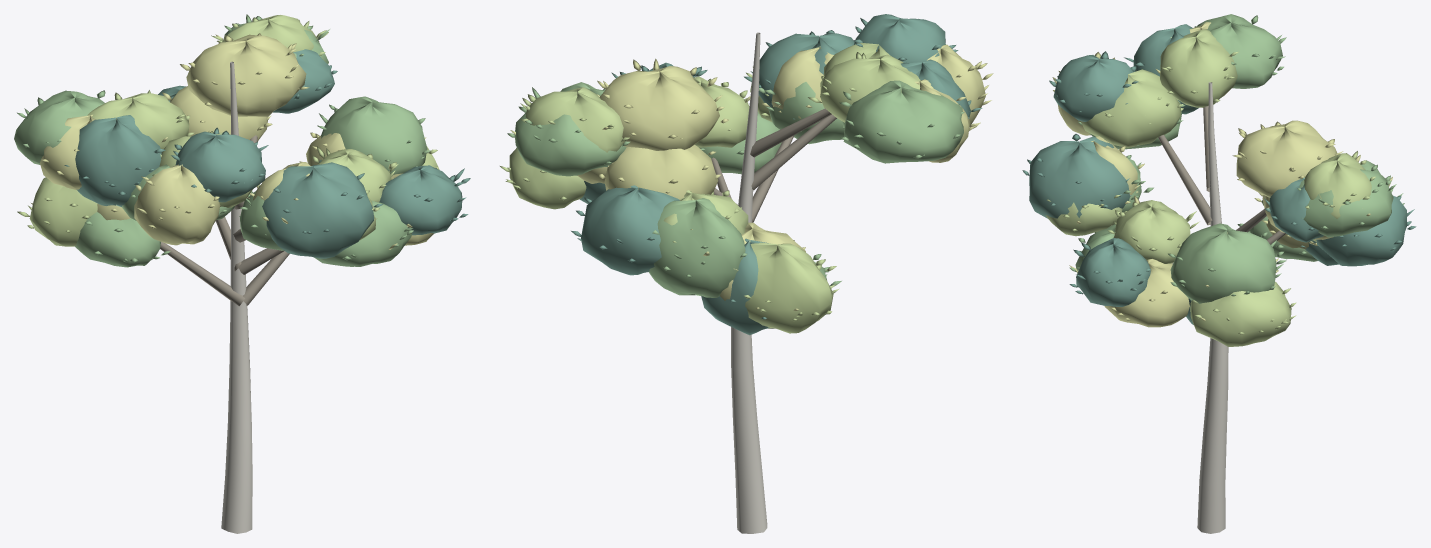
File: birch_airy.glb
3 renders of one model, left to right at view 1: azimuth 30°, elevation 25°; view 2: azimuth 150°, elevation 25°; view 3: azimuth 270°, elevation 25°, orthographic. The views are drawn at different scales.
Parts seen in each view (by area): view 1: birch_airy; view 2: birch_airy; view 3: birch_airy.
Boxes of the visible parts, x1,y1,x2,y2 form: birch_airy: (14,14,470,533); birch_airy: (500,14,993,533); birch_airy: (1022,14,1416,533).
Bounding box in the file's own units: 7 × 7.51 × 6.07.
